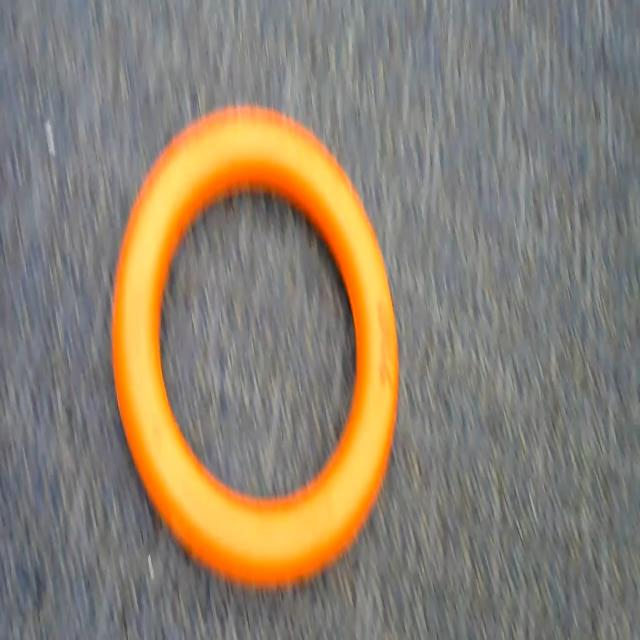note: (108, 93, 404, 636)
